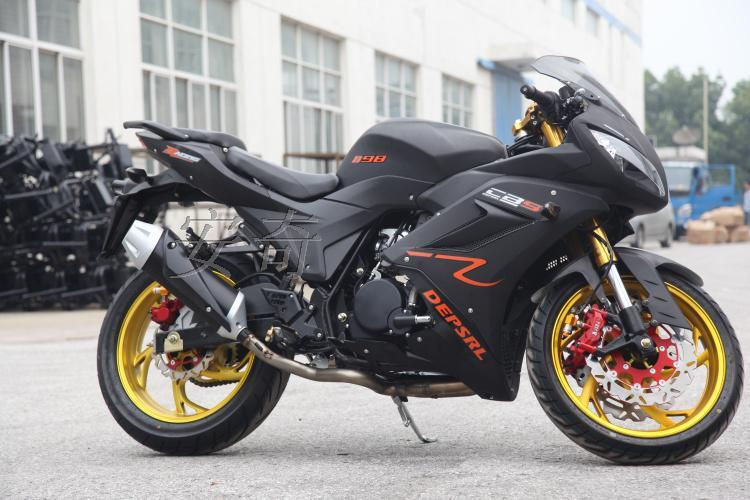摩托车: (93, 52, 750, 465)
